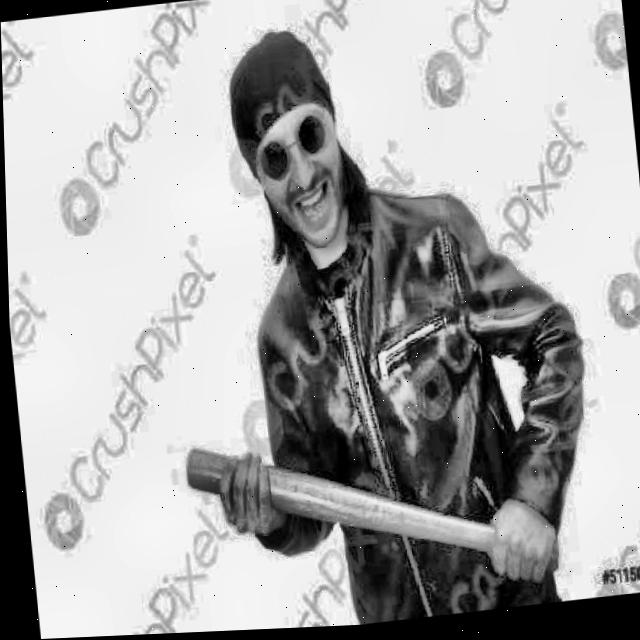tongkat pemukul: (176, 438, 572, 580)
